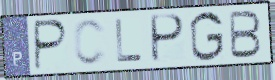B: (228, 10, 263, 60)
C: (72, 17, 108, 68)
G: (188, 10, 226, 63)
L: (113, 18, 145, 65)
P: (33, 18, 70, 73), (150, 13, 187, 65)
